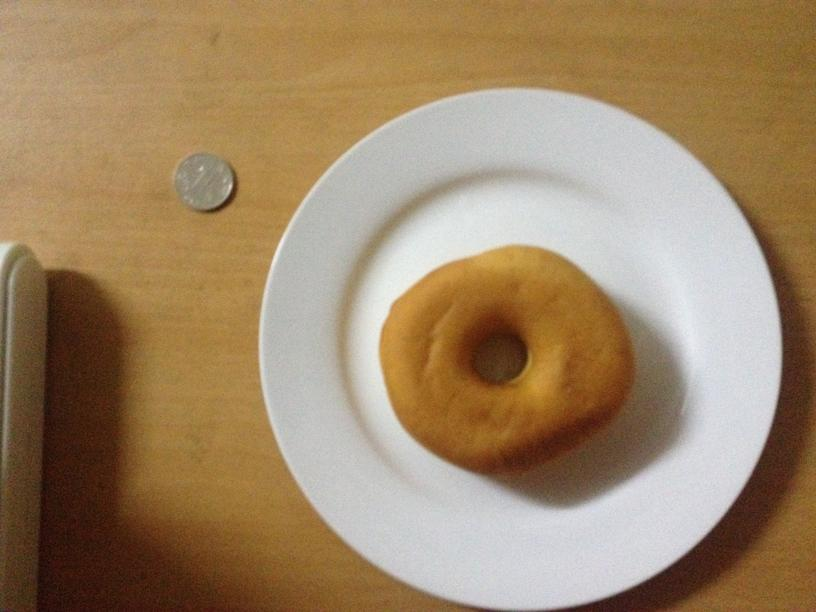coin: (171, 152, 234, 211)
doughnut: (371, 241, 634, 477)
